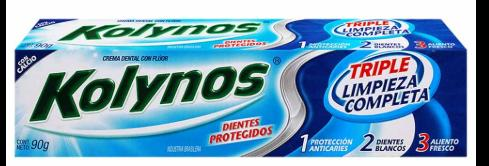brand: (19, 56, 276, 127)
extra_detail: (205, 115, 277, 145)
net_weight: (30, 134, 52, 153)
